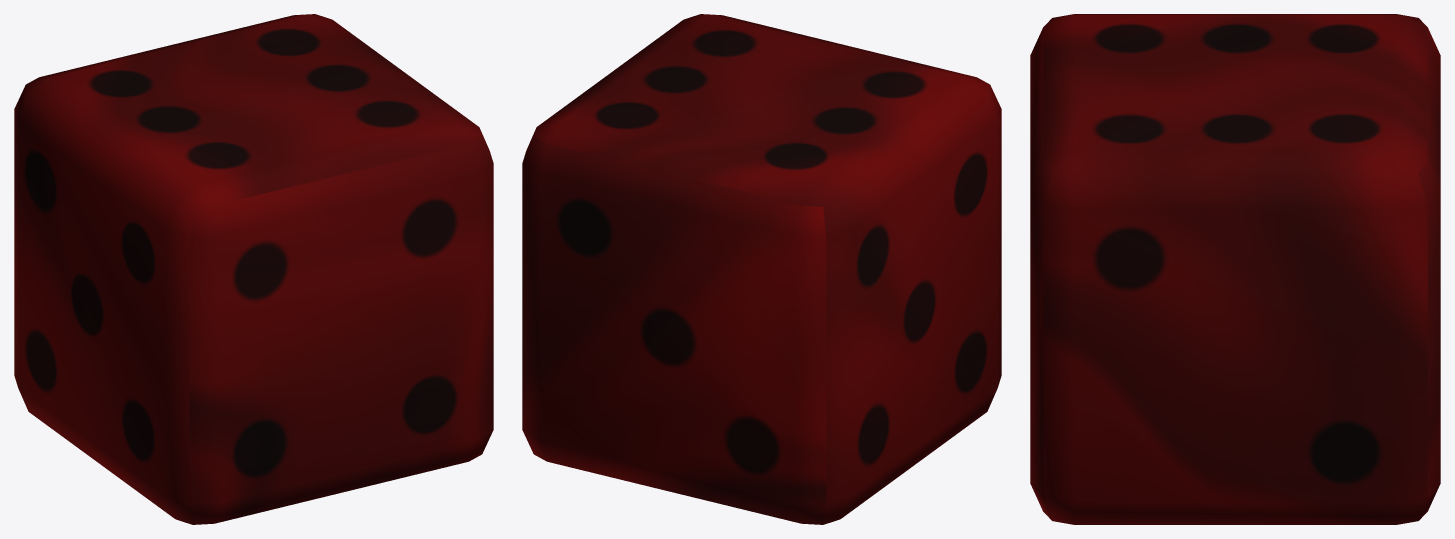
Rendered from attack_dice.glb.
3 views of the same model, side by side, from view 1: azimuth 30°, elevation 25°; view 2: azimuth 150°, elevation 25°; view 3: azimuth 270°, elevation 25° (orthographic). The views are drawn at different scales.
Parts seen in each view (by area): view 1: Object_2; view 2: Object_2; view 3: Object_2.
Boxes of the visible parts, left/top/right/bottom form: Object_2: left=14, top=14, right=493, bottom=524; Object_2: left=522, top=14, right=1001, bottom=524; Object_2: left=1030, top=14, right=1440, bottom=524.
Size of the model in its own units: 2 by 2 by 2.
1 material, 1 textured.
